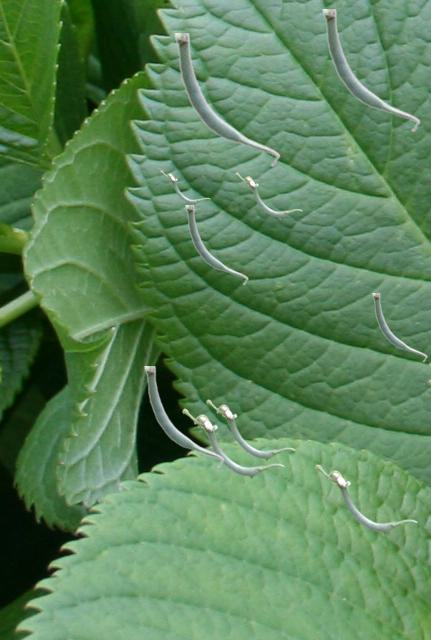french_bean: (174, 33, 279, 166), (322, 9, 419, 131), (144, 366, 223, 467), (315, 464, 416, 534), (182, 408, 283, 478), (206, 399, 294, 460), (185, 205, 247, 284), (372, 293, 426, 361), (235, 172, 301, 218), (160, 170, 209, 204)
